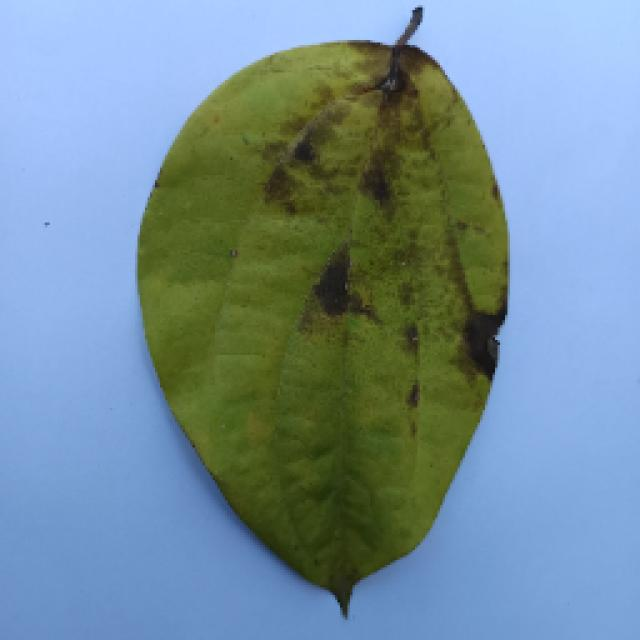slow-decline: (132, 25, 508, 610)
